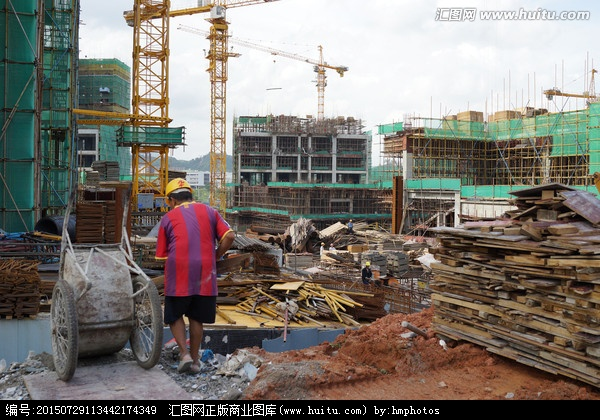yellow: (164, 174, 193, 208)
